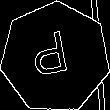P_S: (33, 29, 78, 86)
